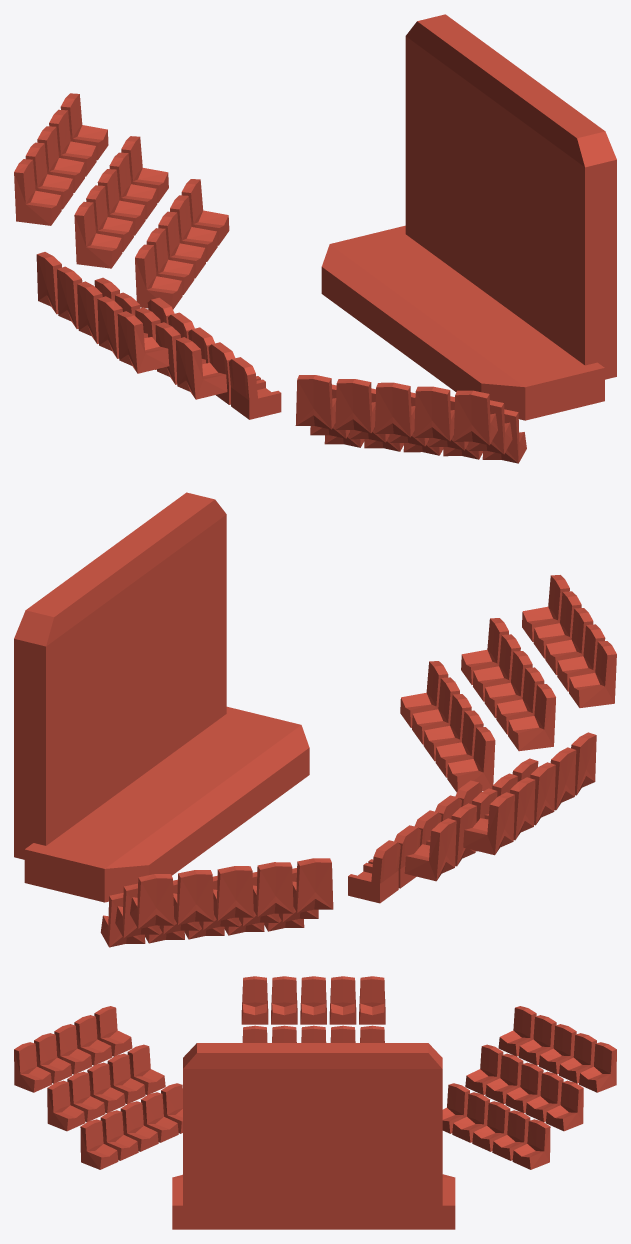
3 views of the same model, one above another, from view 1: azimuth 30°, elevation 25°; view 2: azimuth 150°, elevation 25°; view 3: azimuth 270°, elevation 25° (orthographic). The views are drawn at different scales.
Visible parts, largest first — view 1: Cube_004, Cube_002, Cube_003, Cube_001, Cube; view 2: Cube_004, Cube_002, Cube_003, Cube_001, Cube; view 3: Cube_004, Cube_002, Cube_001, Cube_003.
Part boxes in pixels (x1,y1,x2,y2): Cube_004: (405, 14, 616, 379); Cube_002: (14, 93, 526, 463); Cube_003: (321, 225, 604, 420); Cube_001: (36, 252, 227, 399); Cube: (147, 297, 281, 419); Cube_004: (14, 492, 226, 859); Cube_002: (100, 575, 616, 947); Cube_003: (24, 706, 309, 902); Cube_001: (404, 732, 596, 881); Cube: (348, 780, 482, 903); Cube_004: (183, 1043, 442, 1226); Cube_002: (14, 1006, 616, 1169); Cube_001: (241, 976, 385, 1042); Cube_003: (172, 1174, 455, 1229).
Bounding box in the file's own units: 27.64 × 45.23 × 15.15.
